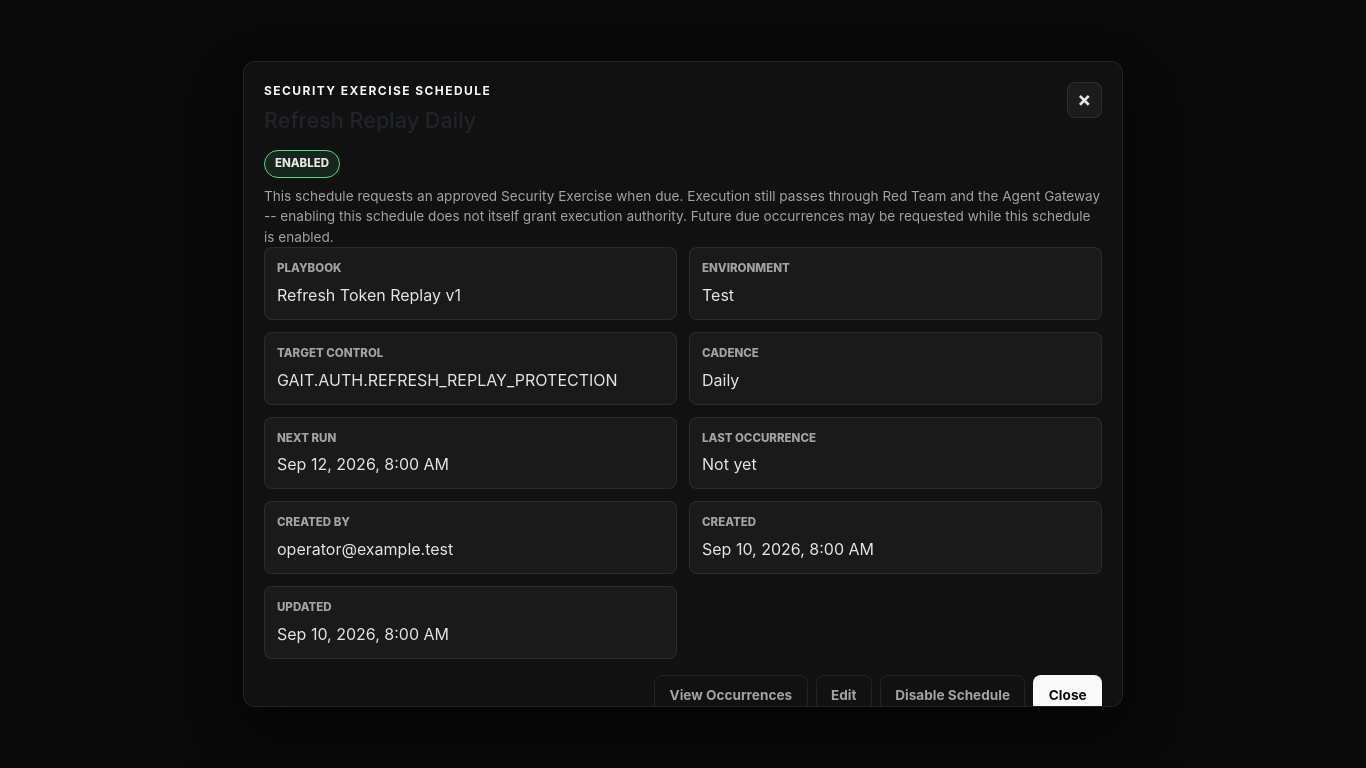
Test: ScheduleDetailModal › a PATCH validation error surfaces safely
Click the button "Edit": (844, 695) left=816, top=675, right=872, bottom=715
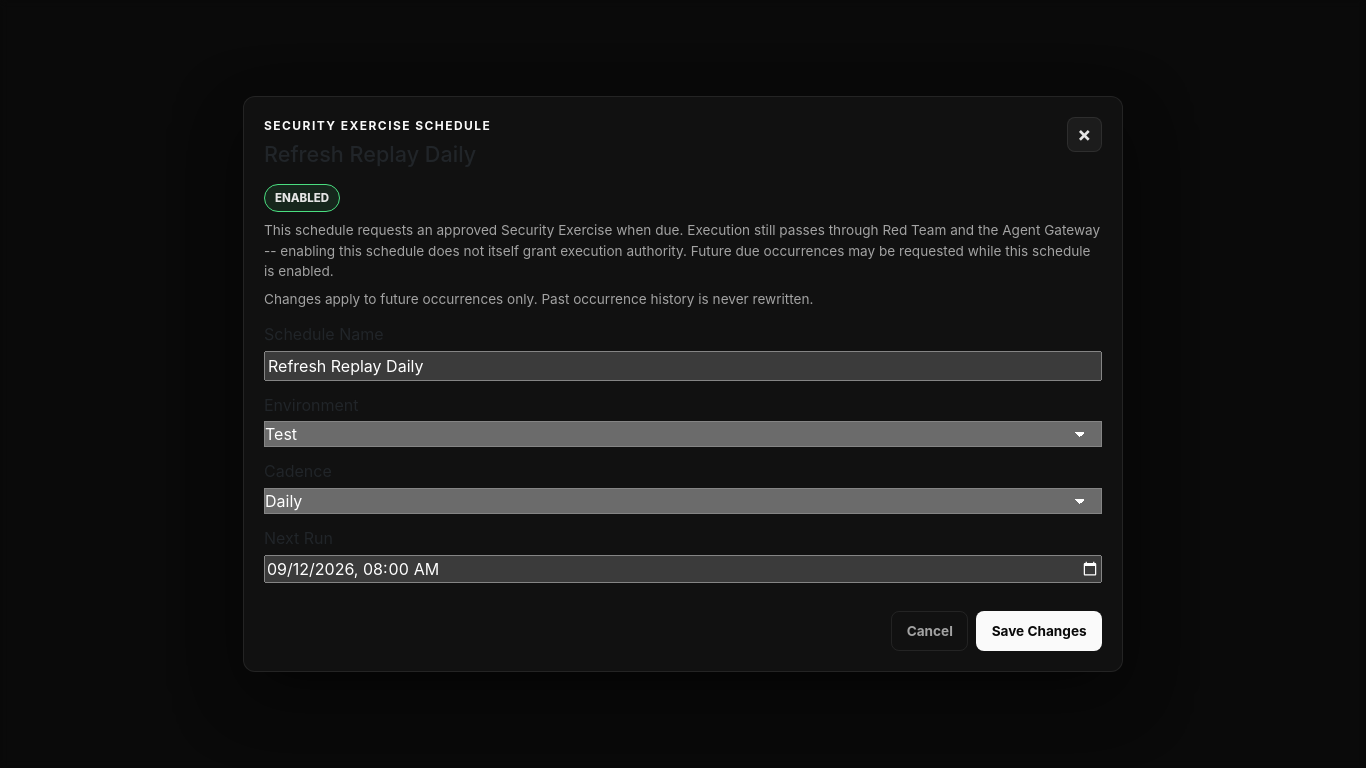
Click the button "Save Changes": (1039, 631) left=976, top=611, right=1102, bottom=651
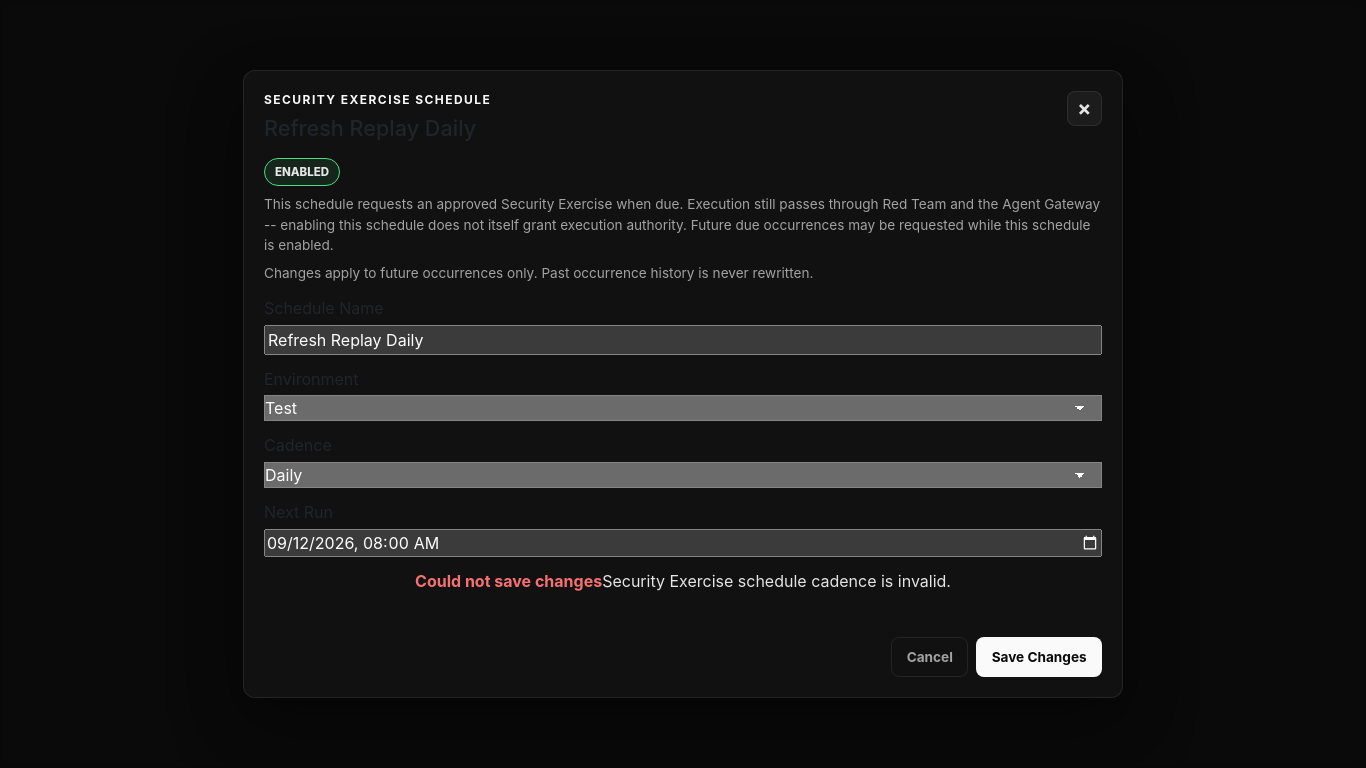
Check: the text "Security Exercise schedule cadence is invalid." is shown, box left=602, top=571, right=951, bottom=591
